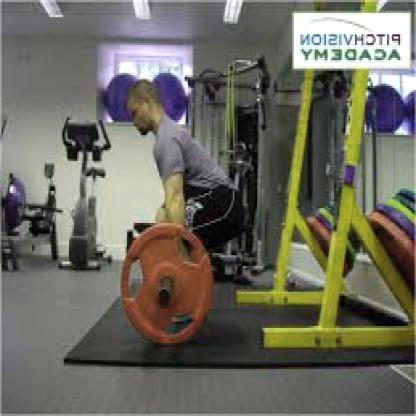Barbell: (154, 288, 169, 308)
